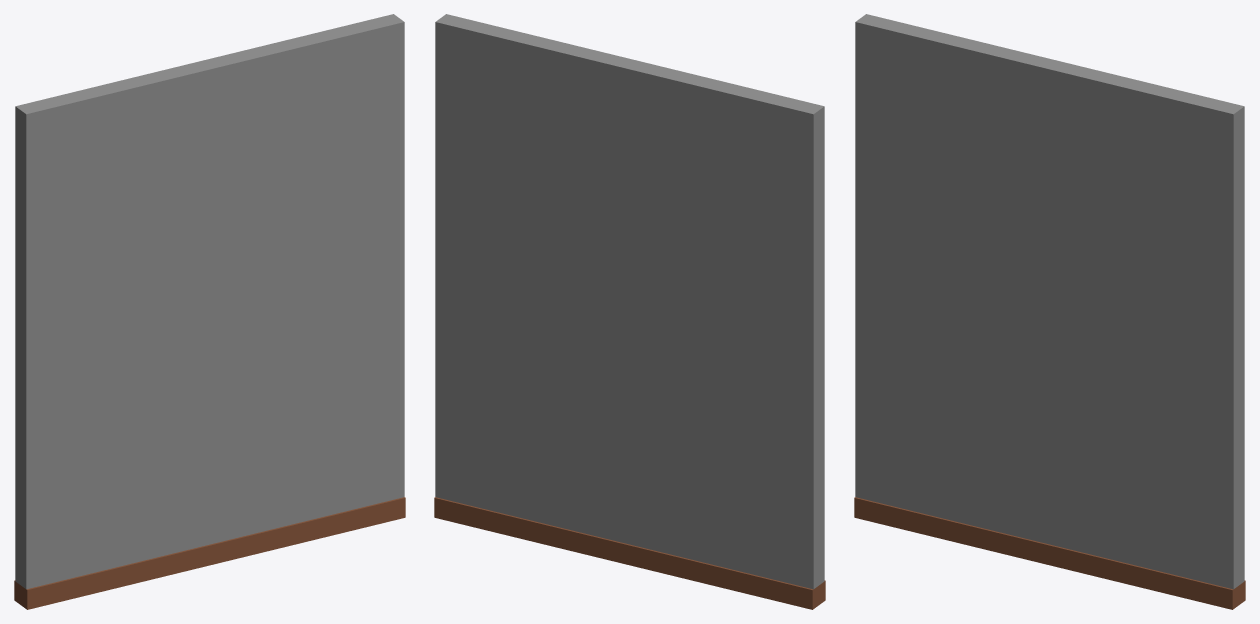
The model's file is Mur03_t1.FBX.
3 renders of one model, left to right at view 1: azimuth 30°, elevation 25°; view 2: azimuth 150°, elevation 25°; view 3: azimuth 330°, elevation 25°, orthographic.
Parts seen in each view (by area): view 1: mur 100; view 2: mur 100; view 3: mur 100.
Boxes of the visible parts, <box> form: mur 100: <box>14,14,405,609</box>; mur 100: <box>434,14,825,609</box>; mur 100: <box>854,14,1245,609</box>.
Bounding box in the file's own units: 200 × 250 × 12.
